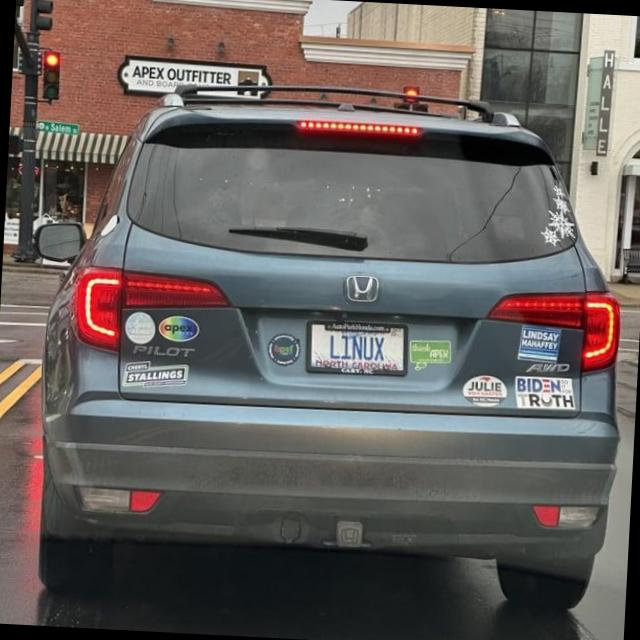LicensePlate: (304, 319, 410, 378)
